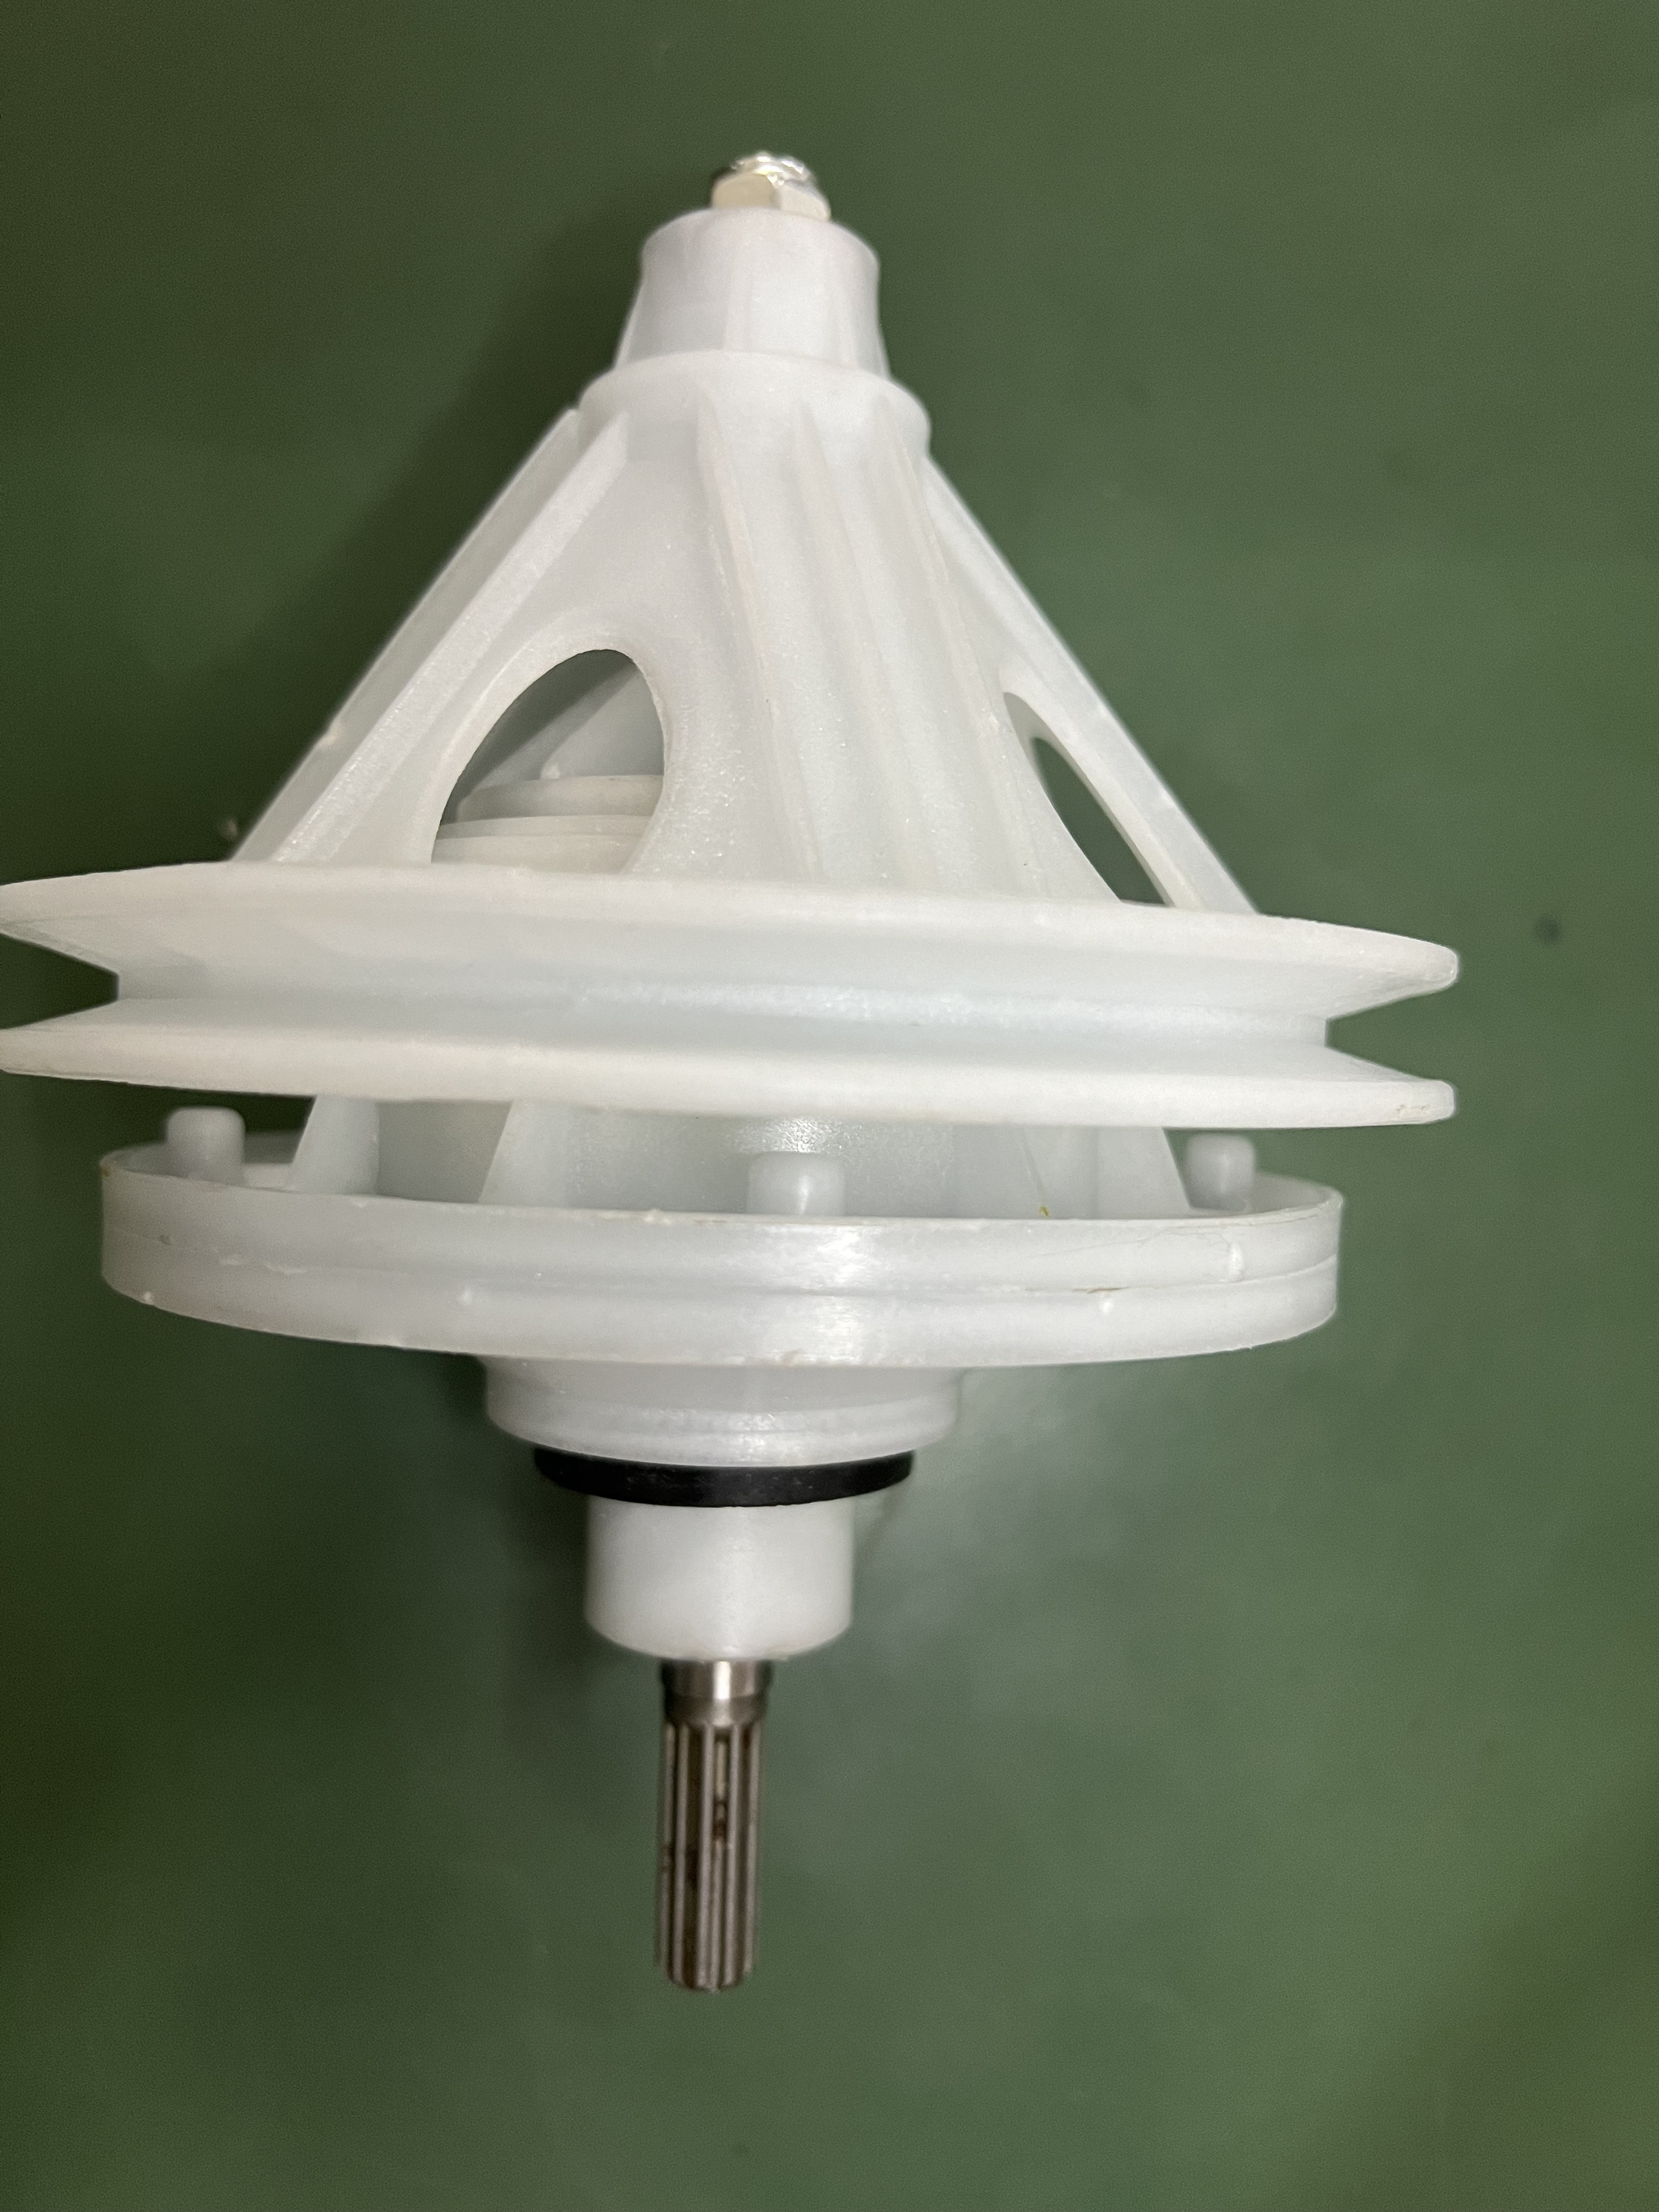gear_box_circle: (26, 155, 1464, 1994)
